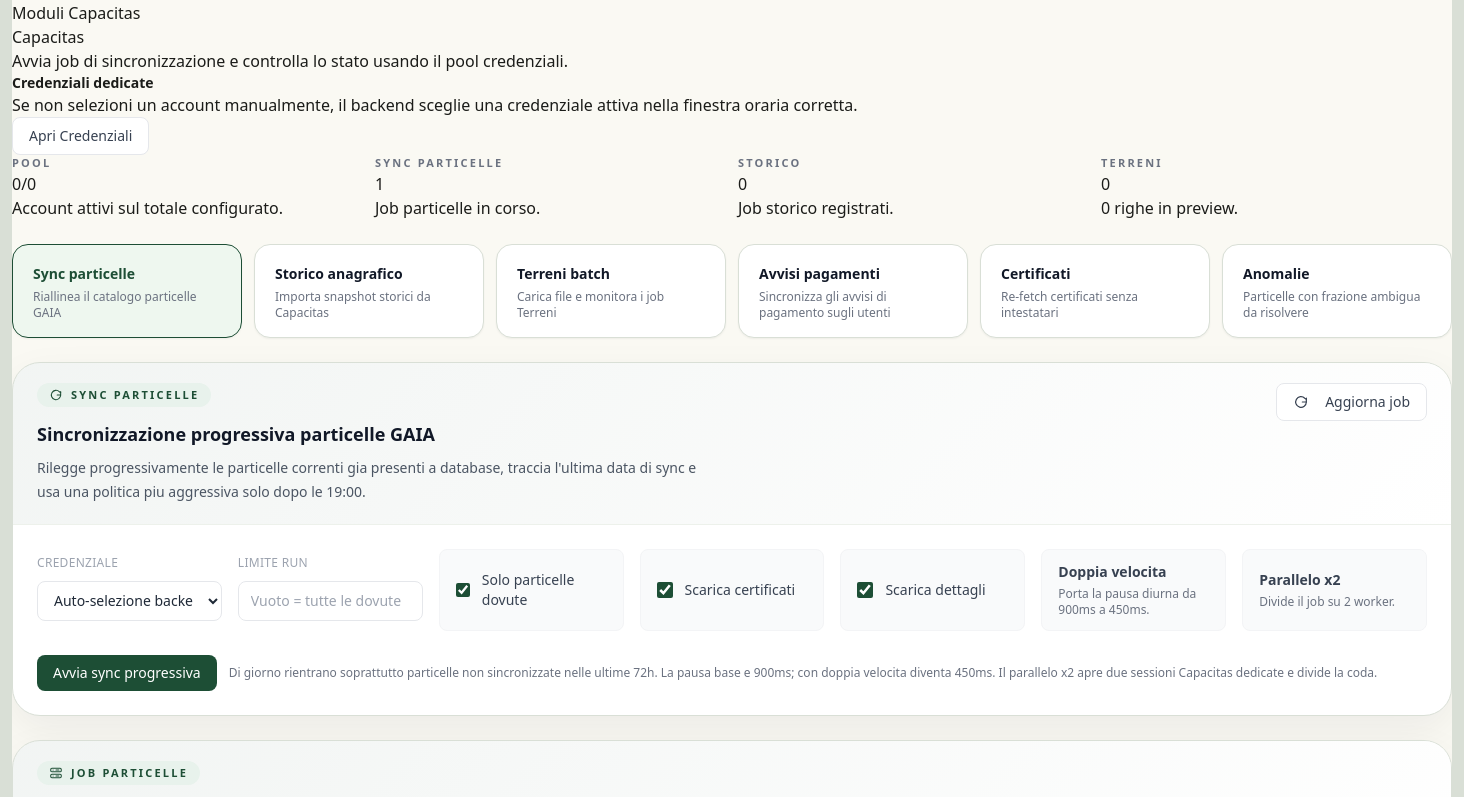
Test: Capacitas Particelle monitor characterization › explicit refresh of active→succeeded sets completion notice
Click the button "Aggiorna job".
click(1352, 402)  # box [1276,382,1427,420]
(page scrolled)
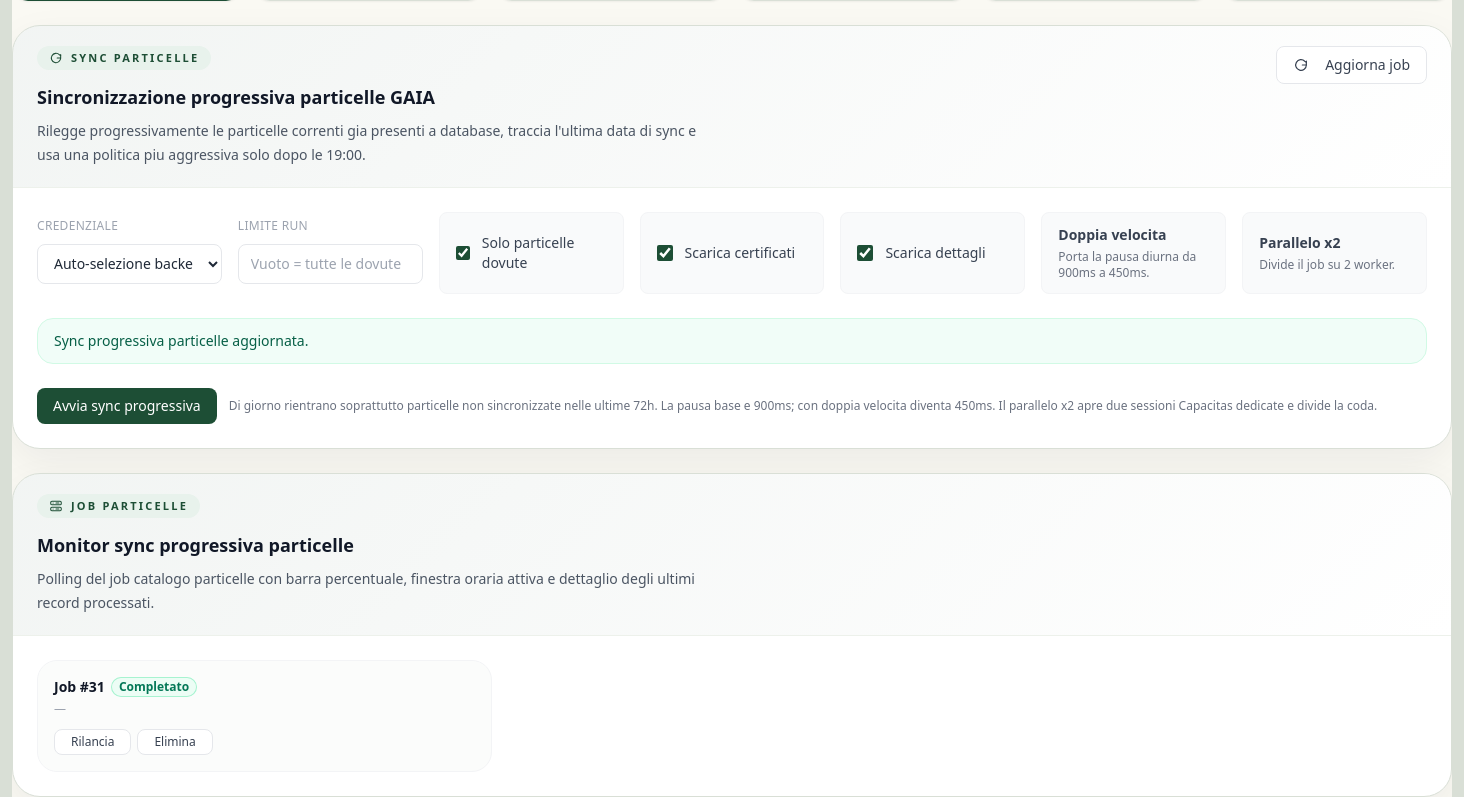
expect the text "Sync progressiva particelle aggiornata." is shown: met, box [37,318,1427,364]
expect the button "Rilancia" is enabled: met, box [54,729,131,755]
